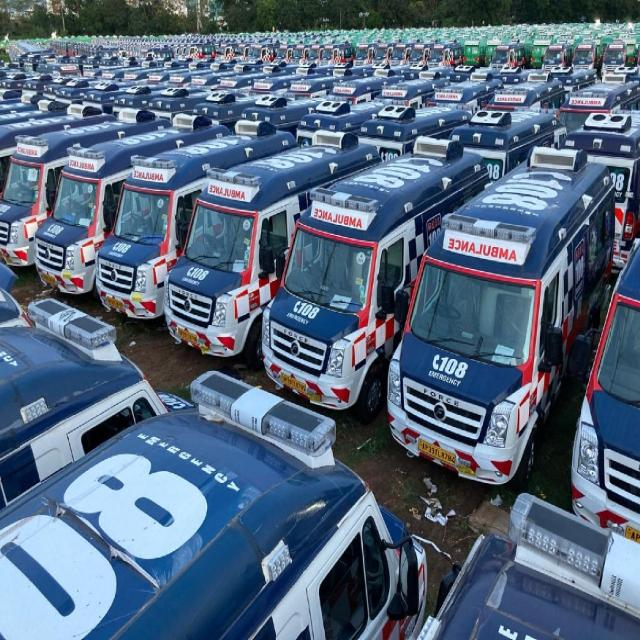emergency: (0, 371, 426, 639), (388, 148, 614, 486), (264, 137, 488, 421), (164, 131, 380, 368), (96, 120, 295, 319), (0, 298, 168, 507), (35, 120, 229, 294), (0, 118, 170, 265), (562, 112, 640, 267), (451, 109, 566, 180), (359, 105, 471, 160)
